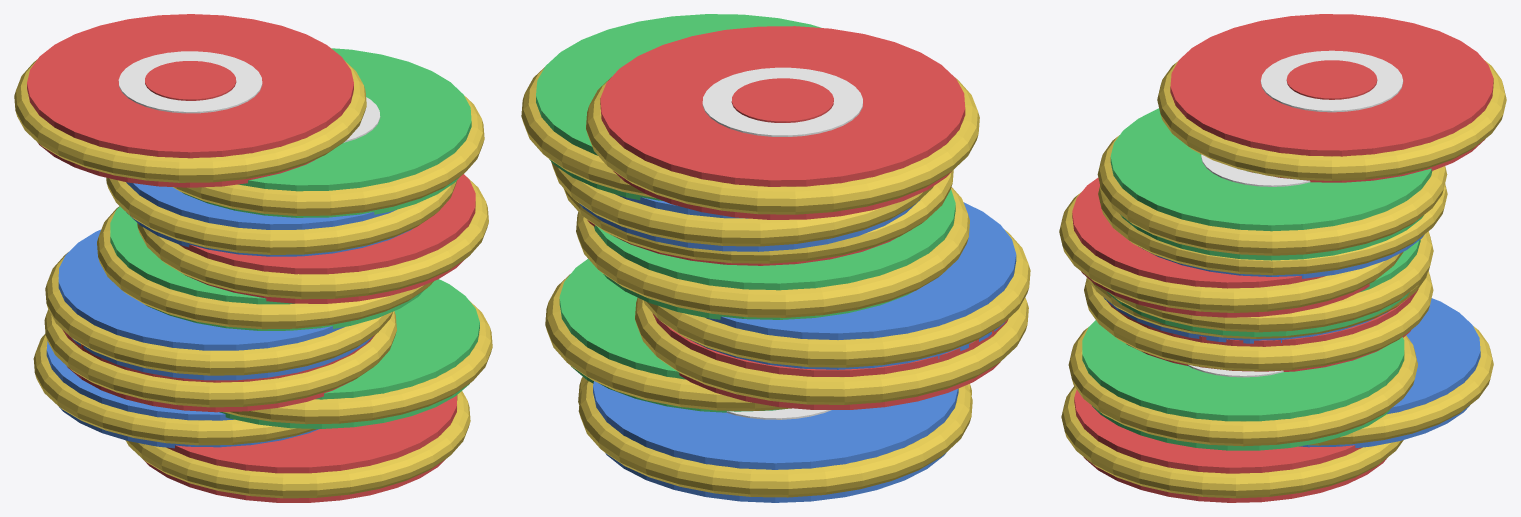
File: fichas1.fbx
The picture shows the model from 3 angles, left to right: view 1: azimuth 30°, elevation 25°; view 2: azimuth 150°, elevation 25°; view 3: azimuth 270°, elevation 25°; orthographic projection. The views are drawn at different scales.
Parts seen in each view (by area): view 1: Pila_9, Pila_8, Pila_4, Pila_0, Pila_9_Borde, Pila_2, Pila_3_Borde, Pila_6_Borde, Pila_4_Borde, Pila_0_Borde, Pila_7_Borde, Pila_6 (+11 smaller); view 2: Pila_9, Pila_1, Pila_9_Borde, Pila_1_Borde, Pila_5_Borde, Pila_4, Pila_3_Borde, Pila_4_Borde, Pila_5, Pila_8, Pila_7_Borde, Pila_2 (+9 smaller); view 3: Pila_9, Pila_8, Pila_2, Pila_9_Borde, Pila_2_Borde, Pila_8_Borde, Pila_3_Borde, Pila_0_Borde, Pila_6_Borde, Pila_0, Pila_6, Pila_1 (+12 smaller).
Part boxes in pixels (x1=…): Pila_9: x1=27, y1=14, x2=353, y2=187; Pila_8: x1=182, y1=48, x2=471, y2=217; Pila_4: x1=58, y1=229, x2=372, y2=380; Pila_0: x1=144, y1=395, x2=457, y2=502; Pila_9_Borde: x1=14, y1=59, x2=366, y2=182; Pila_2: x1=219, y1=279, x2=479, y2=428; Pila_3_Borde: x1=44, y1=310, x2=396, y2=407; Pila_6_Borde: x1=137, y1=177, x2=488, y2=299; Pila_4_Borde: x1=45, y1=252, x2=392, y2=375; Pila_0_Borde: x1=125, y1=391, x2=470, y2=498; Pila_7_Borde: x1=106, y1=177, x2=457, y2=254; Pila_6: x1=179, y1=174, x2=475, y2=303; Pila_9: x1=600, y1=26, x2=965, y2=219; Pila_1: x1=593, y1=381, x2=958, y2=502; Pila_9_Borde: x1=586, y1=77, x2=979, y2=214; Pila_1_Borde: x1=578, y1=380, x2=972, y2=497; Pila_5_Borde: x1=576, y1=187, x2=969, y2=317; Pila_4: x1=687, y1=202, x2=1016, y2=369; Pila_3_Borde: x1=635, y1=297, x2=1028, y2=404; Pila_4_Borde: x1=643, y1=229, x2=1030, y2=367; Pila_5: x1=594, y1=189, x2=955, y2=319; Pila_8: x1=536, y1=14, x2=821, y2=200; Pila_7_Borde: x1=551, y1=161, x2=933, y2=246; Pila_2: x1=559, y1=259, x2=784, y2=412; Pila_9: x1=1170, y1=14, x2=1493, y2=182; Pila_8: x1=1110, y1=108, x2=1432, y2=260; Pila_2: x1=1082, y1=320, x2=1404, y2=450; Pila_9_Borde: x1=1157, y1=60, x2=1506, y2=180; Pila_2_Borde: x1=1068, y1=327, x2=1417, y2=446; Pila_8_Borde: x1=1097, y1=135, x2=1447, y2=255; Pila_3_Borde: x1=1084, y1=271, x2=1433, y2=371; Pila_0_Borde: x1=1061, y1=386, x2=1403, y2=498; Pila_6_Borde: x1=1059, y1=192, x2=1403, y2=312; Pila_0: x1=1074, y1=390, x2=1387, y2=502; Pila_6: x1=1072, y1=178, x2=1369, y2=317; Pila_1: x1=1299, y1=298, x2=1480, y2=447.
Size of the model in its own units: 142 by 113 by 138.
